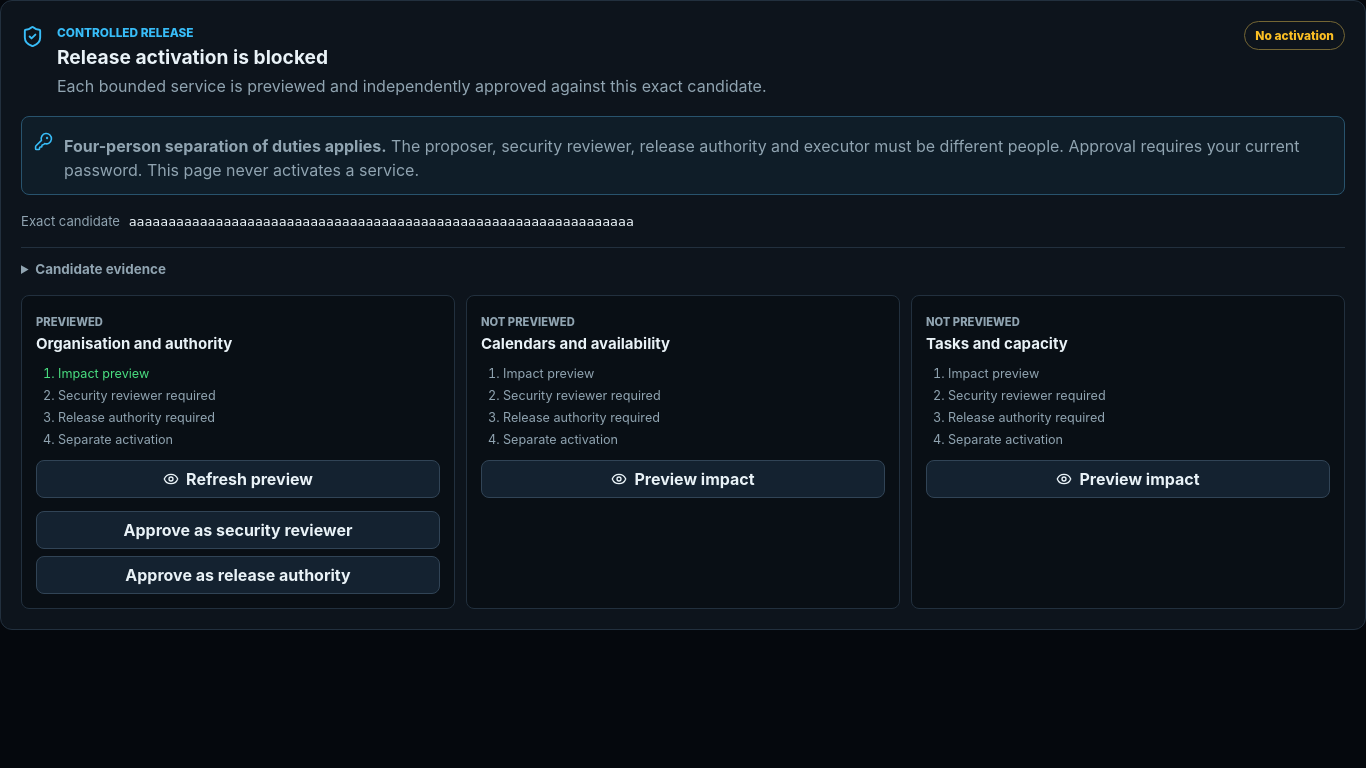
Test case: a rejected preview is reported and the slice can be previewed again
// A previewed slice offers a refresh rather than a first preview.
Step 1. Click the button "Refresh preview" → coordinates (238, 479), box left=36, top=460, right=440, bottom=498
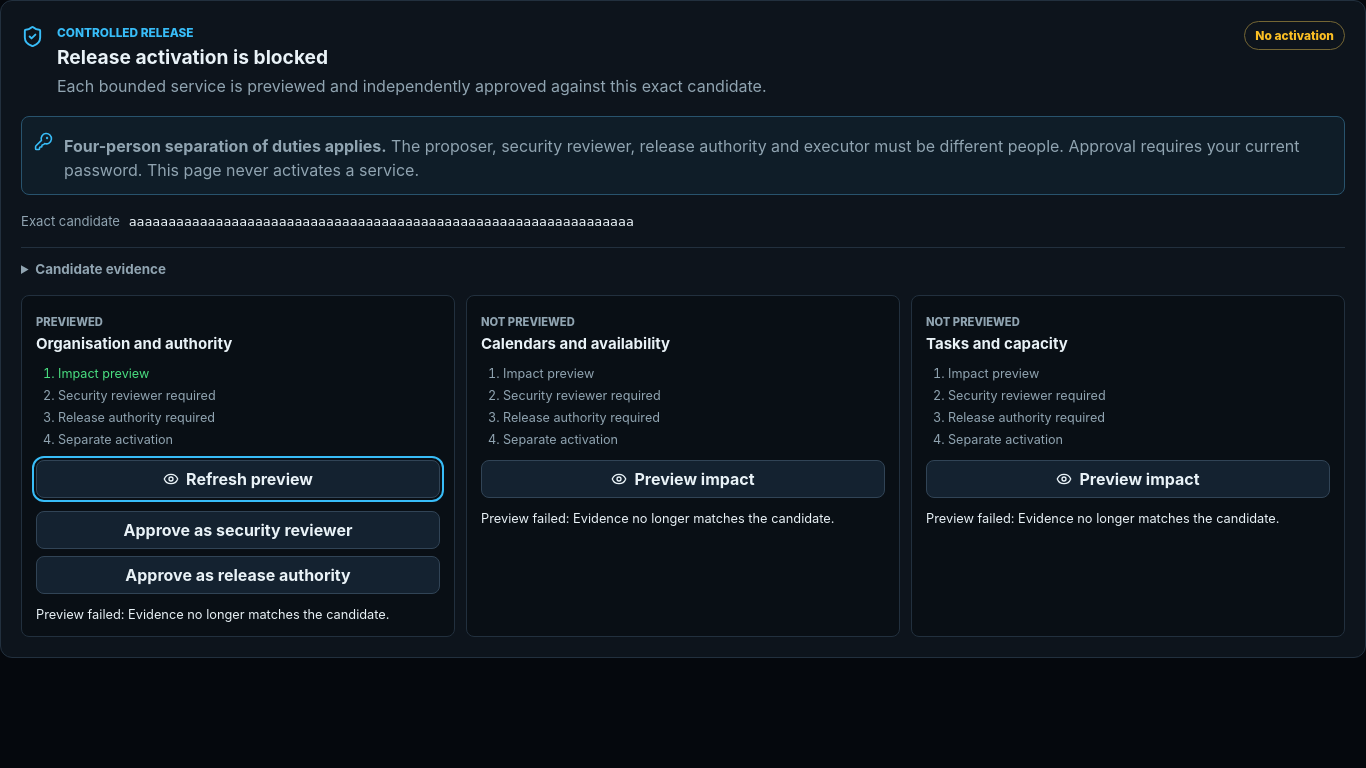
Now the message "Preview failed: Evidence no longer matches the candidate." below "Organisation and authority" is shown, box left=36, top=607, right=128, bottom=622
